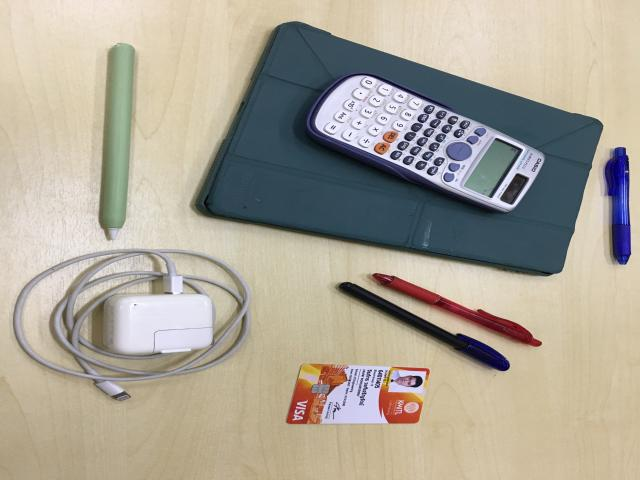Pen: (338, 282, 510, 371), (373, 274, 542, 347), (606, 148, 637, 266)
wire: (13, 251, 248, 401)
